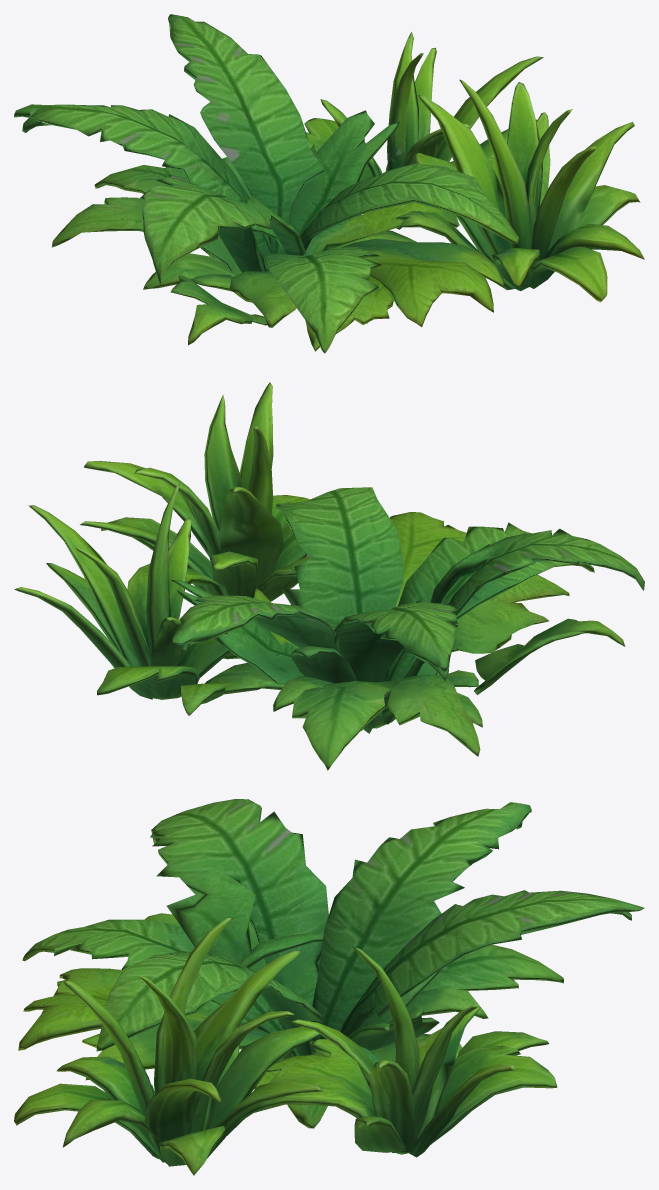
The model's file is s2_r3c5_fern_grass_patch.glb.
3 renders of one model, top to bottom at view 1: azimuth 30°, elevation 25°; view 2: azimuth 150°, elevation 25°; view 3: azimuth 270°, elevation 25°, orthographic. The views are drawn at different scales.
Bounding box in the file's own units: 1 × 0.4249 × 0.9698.
1 material, 1 textured.
